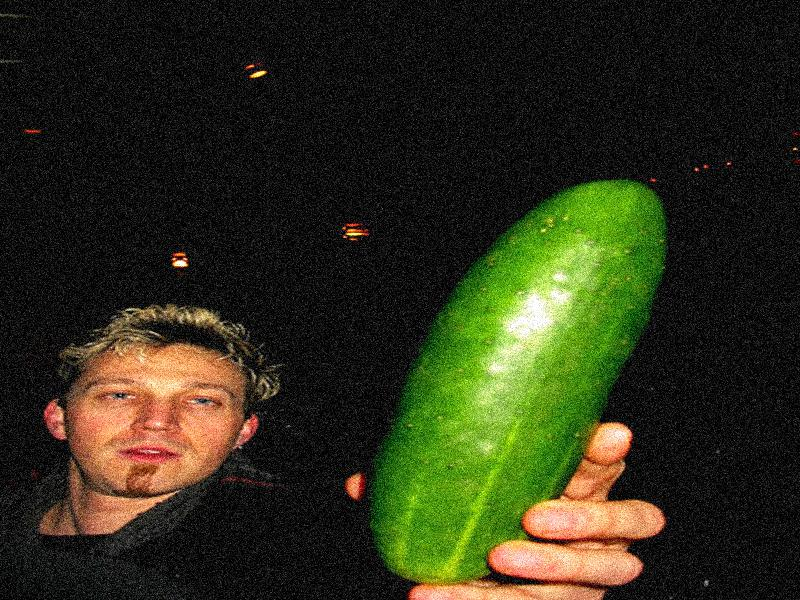Cucumber: (373, 181, 668, 581)
